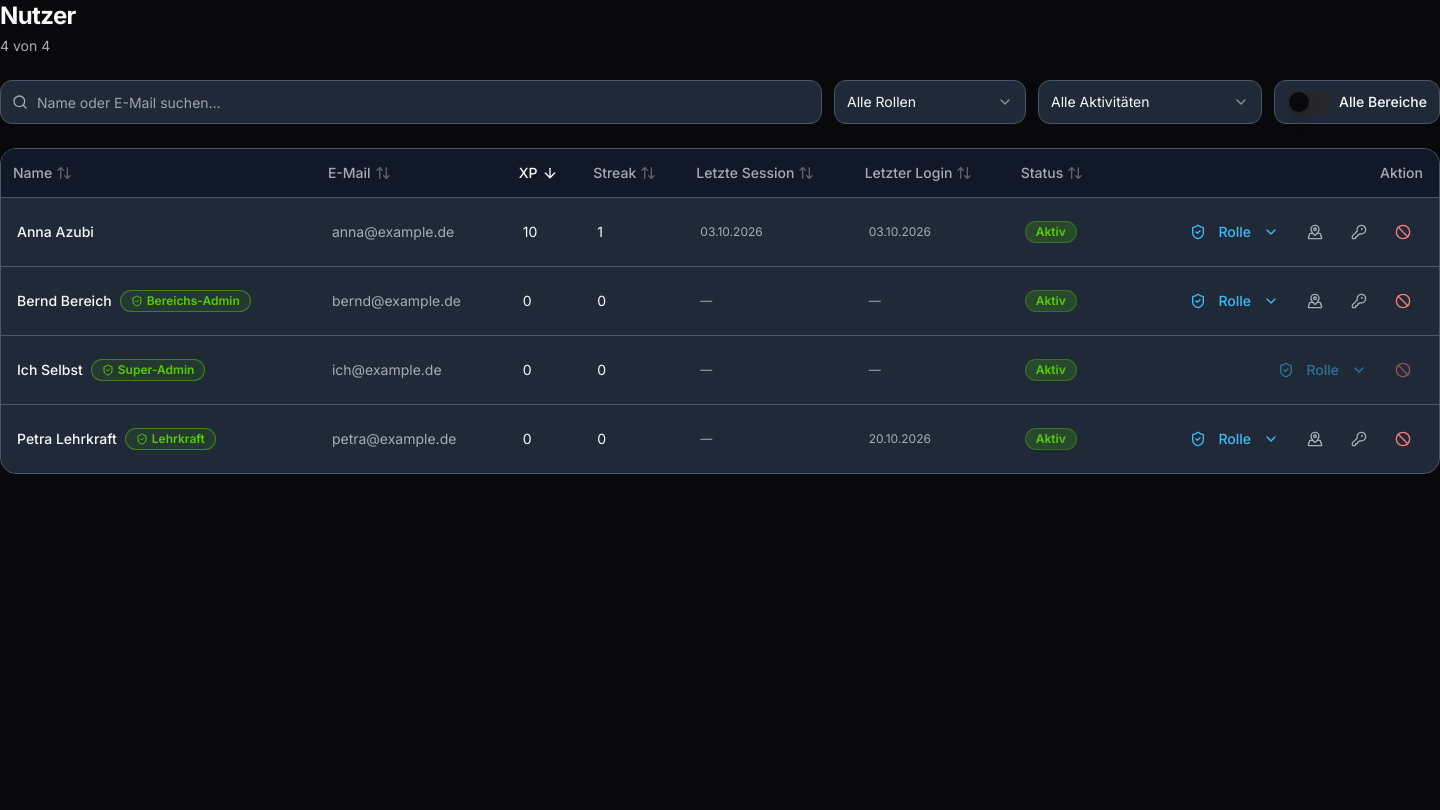
it: Nutzerliste – Passwort neu vergeben (PROJ-58) › Dialog: Fehler der Schnittstelle bleibt sichtbar, Eingabe bleibt erhalten
The image size is (1440, 810).
Step 1. Click the button named "Passwort für Anna Azubi neu vergeben" → (1359, 232), box [1339, 214, 1379, 250]
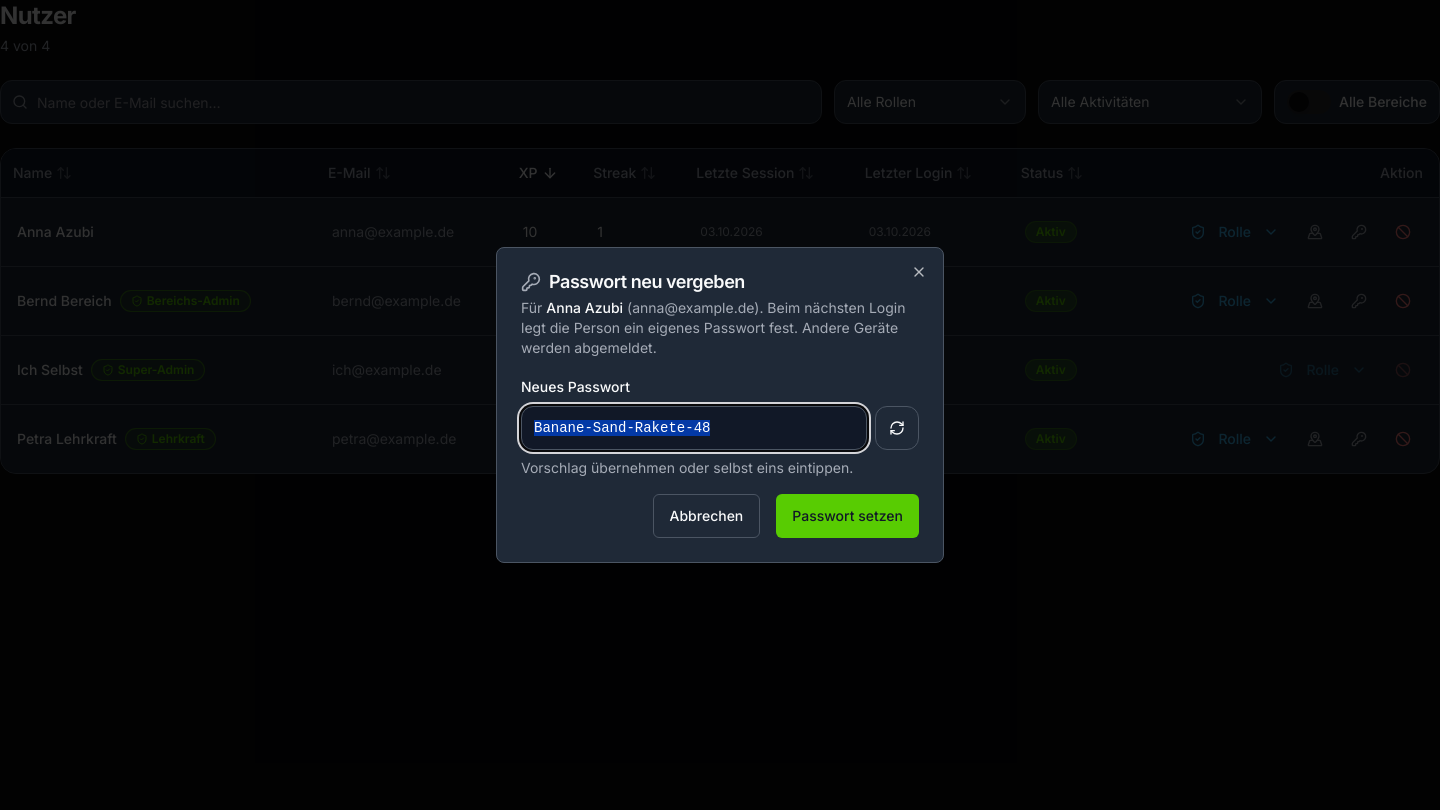
Step 2. Replace the text in the field labelled "Neues Passwort" with "Mein-Test-Passwort-22" → (694, 428), box [521, 406, 867, 450]
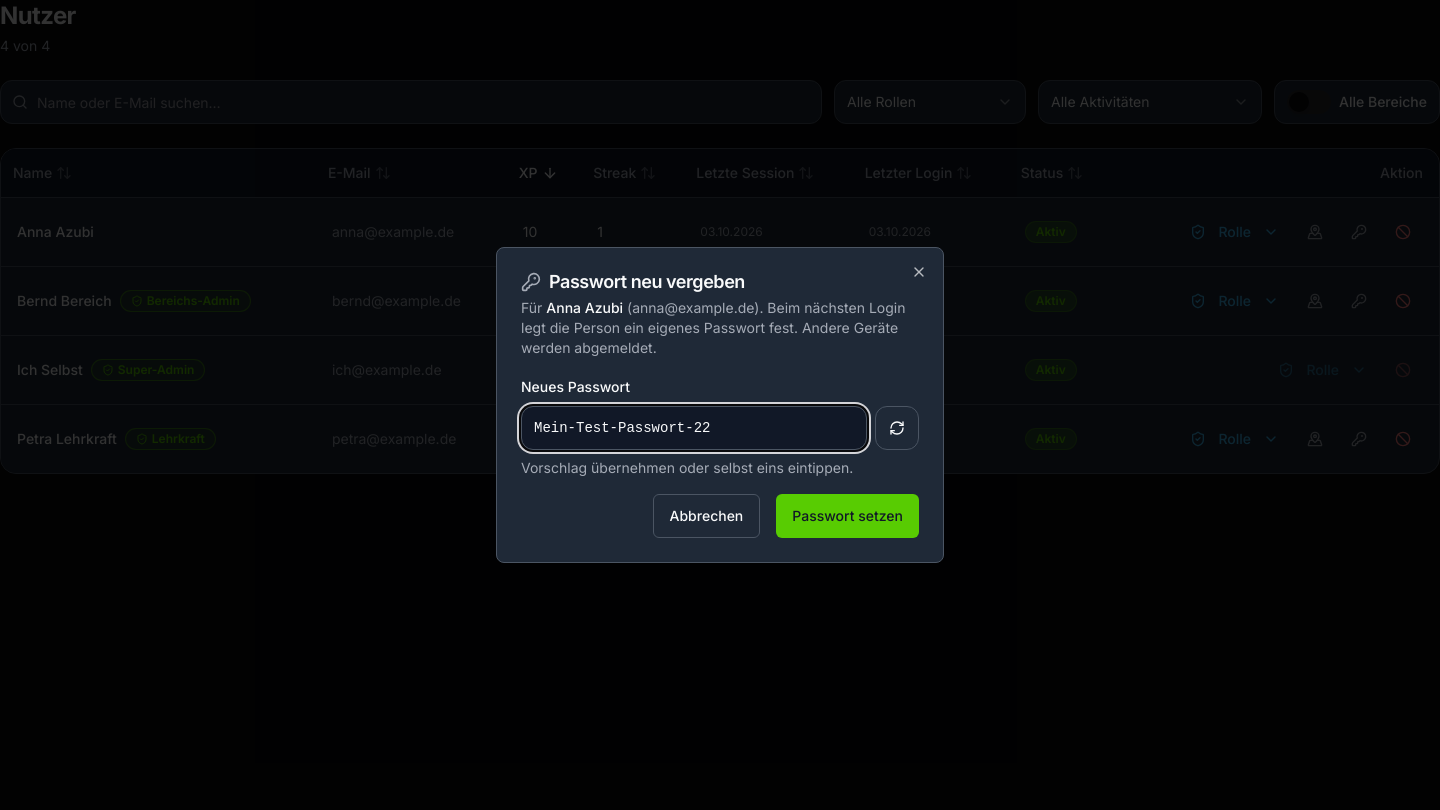
Step 3. Click the button "Passwort setzen" → (848, 516), box [776, 494, 919, 538]
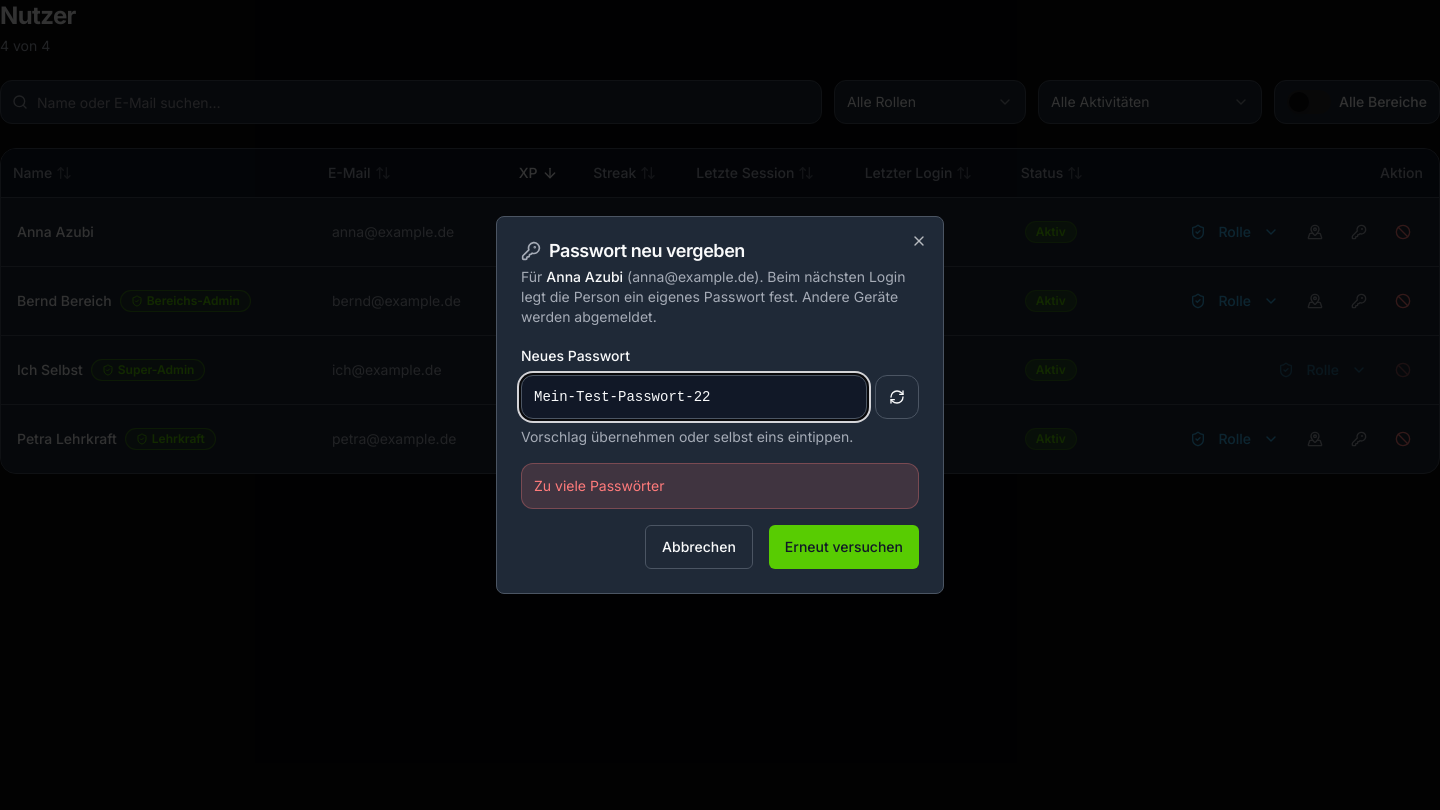
Expected: the button "Erneut versuchen" is enabled, [769, 525, 919, 569]
Expected: the message reads "Zu viele Passwörter", [534, 477, 664, 494]
